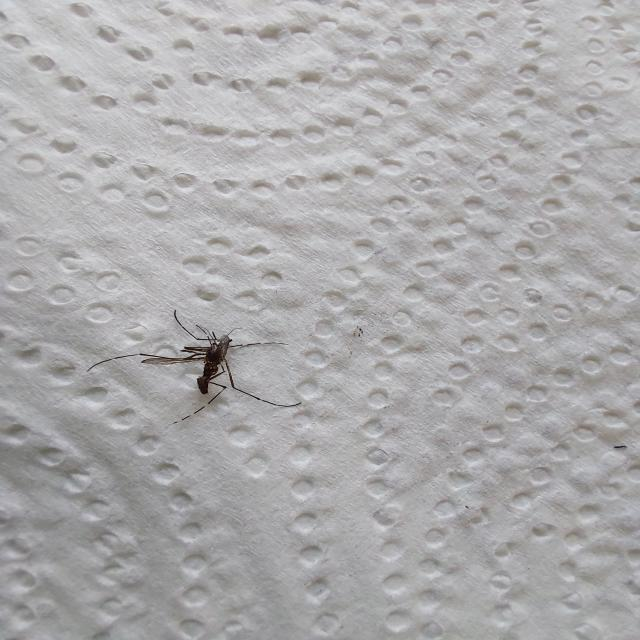albopictus: (95, 300, 302, 428)
